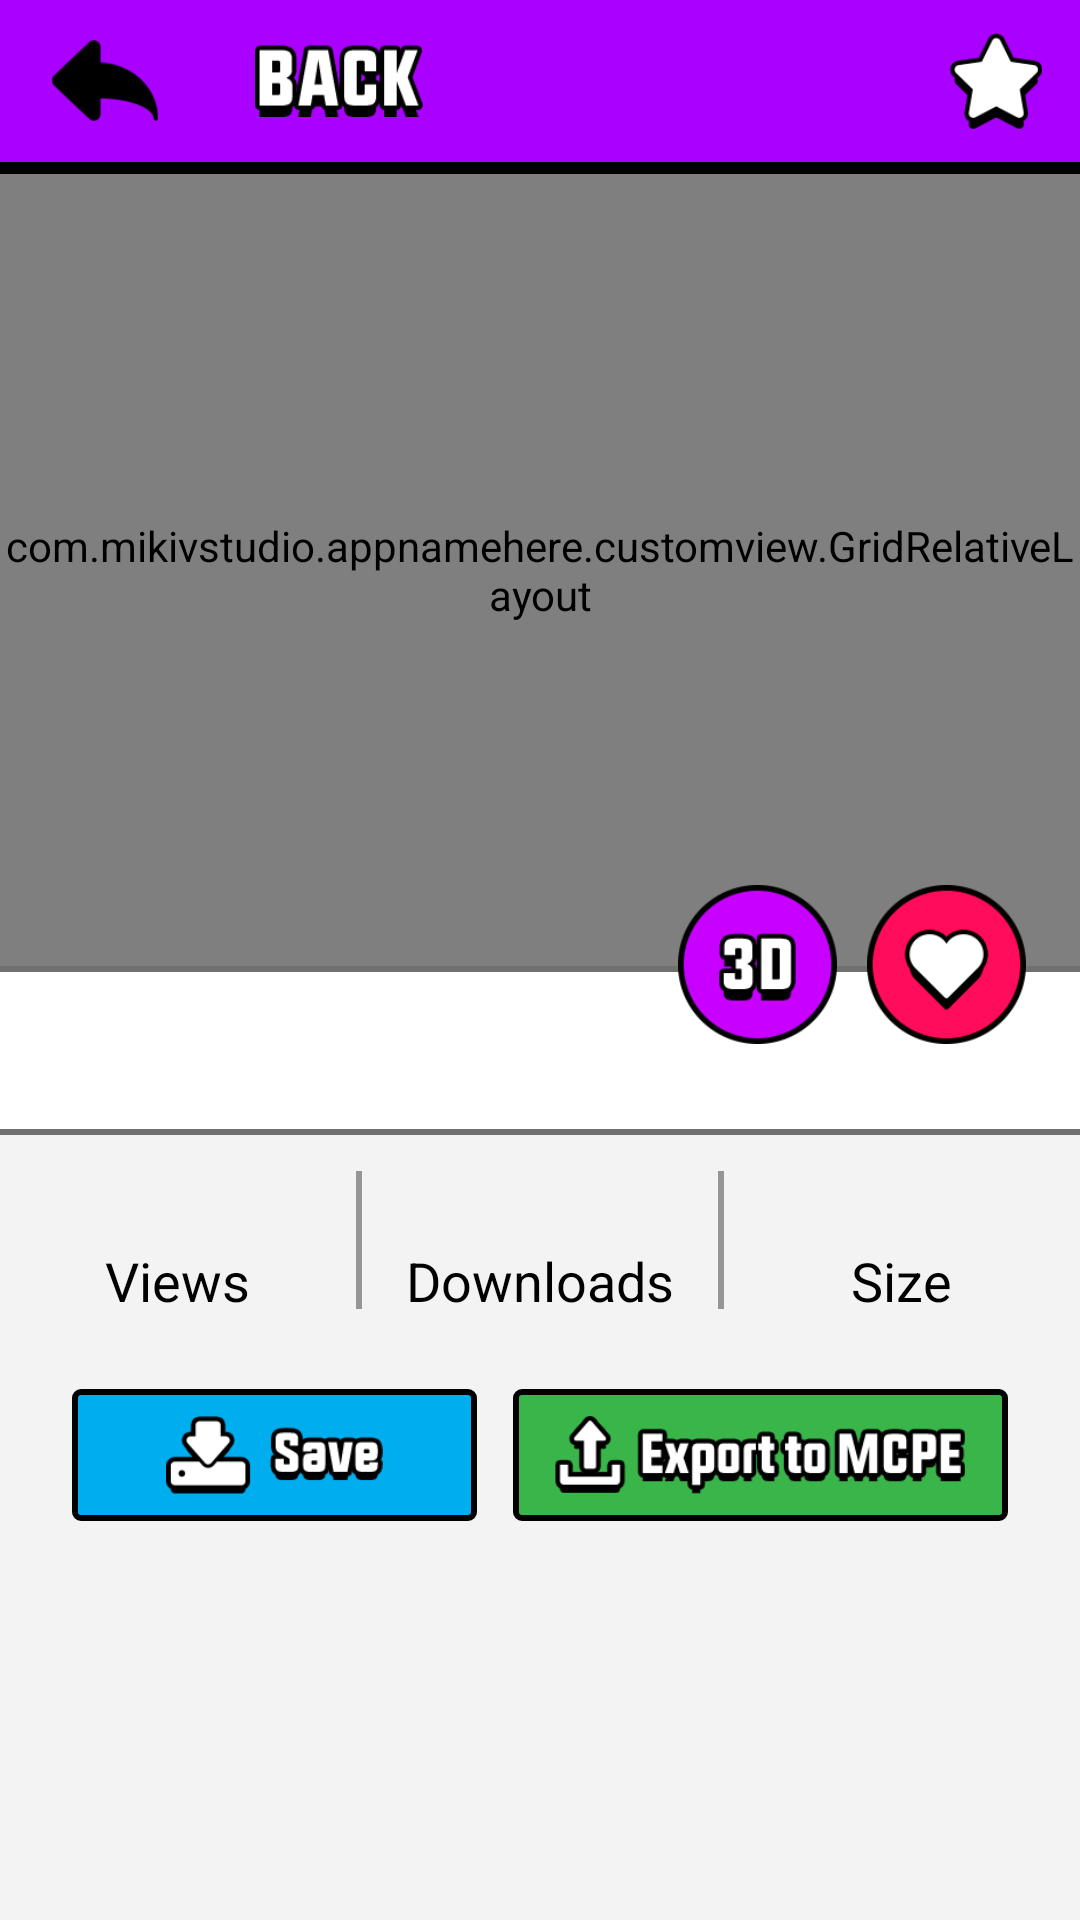

Where to tap for icons on this 1080w x 1920h app screen, as (x=x, y=y):
back: (x=105, y=80)
rate: (x=996, y=81)
skin favorite on: (x=946, y=964)
